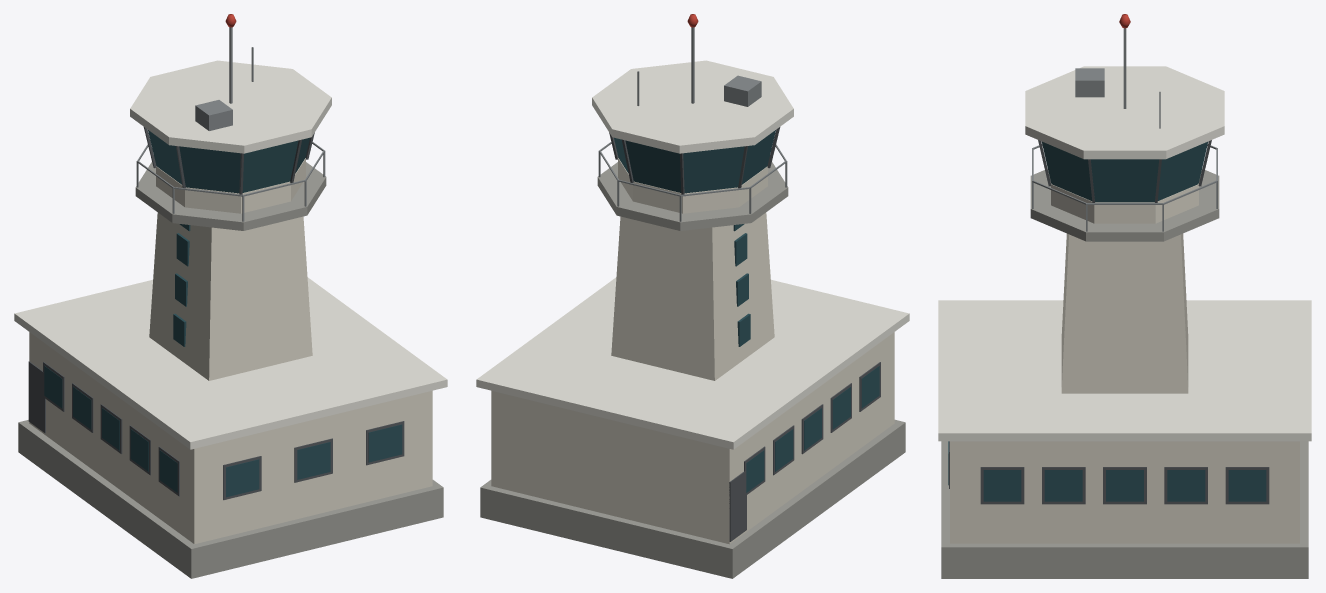
File: airfield-tower.glb
3 views of the same model, side by side, from view 1: azimuth 30°, elevation 25°; view 2: azimuth 150°, elevation 25°; view 3: azimuth 270°, elevation 25° (orthographic). The views are drawn at different scales.
Visible parts, largest first — view 1: airfield-tower: Palm Bay stucco, airfield-tower: Palm Bay trim, airfield-tower: Palm Bay concrete, airfield-tower: Palm Bay glass, airfield-tower: Palm Bay frame, airfield-tower: Palm Bay steel; view 2: airfield-tower: Palm Bay stucco, airfield-tower: Palm Bay trim, airfield-tower: Palm Bay concrete, airfield-tower: Palm Bay glass, airfield-tower: Palm Bay frame, airfield-tower: Palm Bay steel; view 3: airfield-tower: Palm Bay trim, airfield-tower: Palm Bay stucco, airfield-tower: Palm Bay concrete, airfield-tower: Palm Bay glass, airfield-tower: Palm Bay frame, airfield-tower: Palm Bay steel.
Part boxes in pixels (<box>): airfield-tower: Palm Bay stucco: <box>29,158,432,544</box>; airfield-tower: Palm Bay trim: <box>14,60,447,449</box>; airfield-tower: Palm Bay concrete: <box>18,162,443,578</box>; airfield-tower: Palm Bay glass: <box>44,130,402,497</box>; airfield-tower: Palm Bay frame: <box>28,127,404,500</box>; airfield-tower: Palm Bay steel: <box>136,27,325,221</box>; airfield-tower: Palm Bay stucco: <box>491,158,894,544</box>; airfield-tower: Palm Bay trim: <box>476,60,909,449</box>; airfield-tower: Palm Bay concrete: <box>480,162,905,578</box>; airfield-tower: Palm Bay glass: <box>614,130,879,492</box>; airfield-tower: Palm Bay frame: <box>609,127,880,541</box>; airfield-tower: Palm Bay steel: <box>598,27,787,221</box>; airfield-tower: Palm Bay trim: <box>938,66,1311,441</box>; airfield-tower: Palm Bay stucco: <box>950,183,1299,543</box>; airfield-tower: Palm Bay concrete: <box>941,169,1308,578</box>; airfield-tower: Palm Bay glass: <box>948,141,1266,501</box>; airfield-tower: Palm Bay frame: <box>949,140,1269,504</box>; airfield-tower: Palm Bay steel: <box>1032,28,1217,231</box>.
Size of the model in its own units: 10.8 by 18.85 by 12.8.
